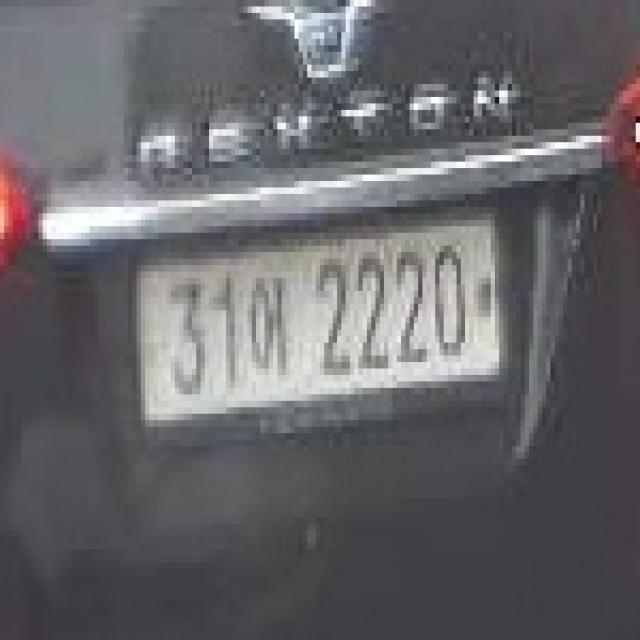0: (427, 239, 469, 362)
1: (205, 272, 239, 382)
2: (312, 259, 354, 375), (388, 245, 427, 368), (354, 252, 388, 369)
3: (162, 272, 209, 394)
eo: (243, 278, 290, 381)
license_plate: (132, 213, 504, 433)
